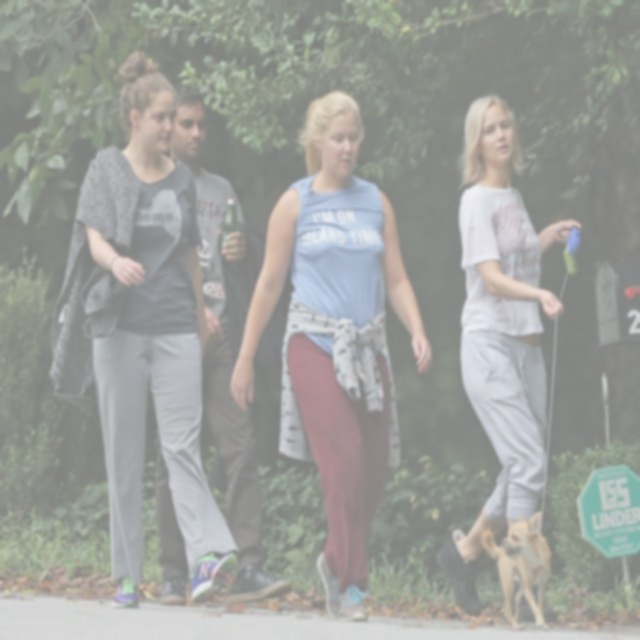pessoa: (38, 38, 242, 612), (222, 84, 435, 628), (431, 90, 585, 637), (154, 78, 296, 606)
